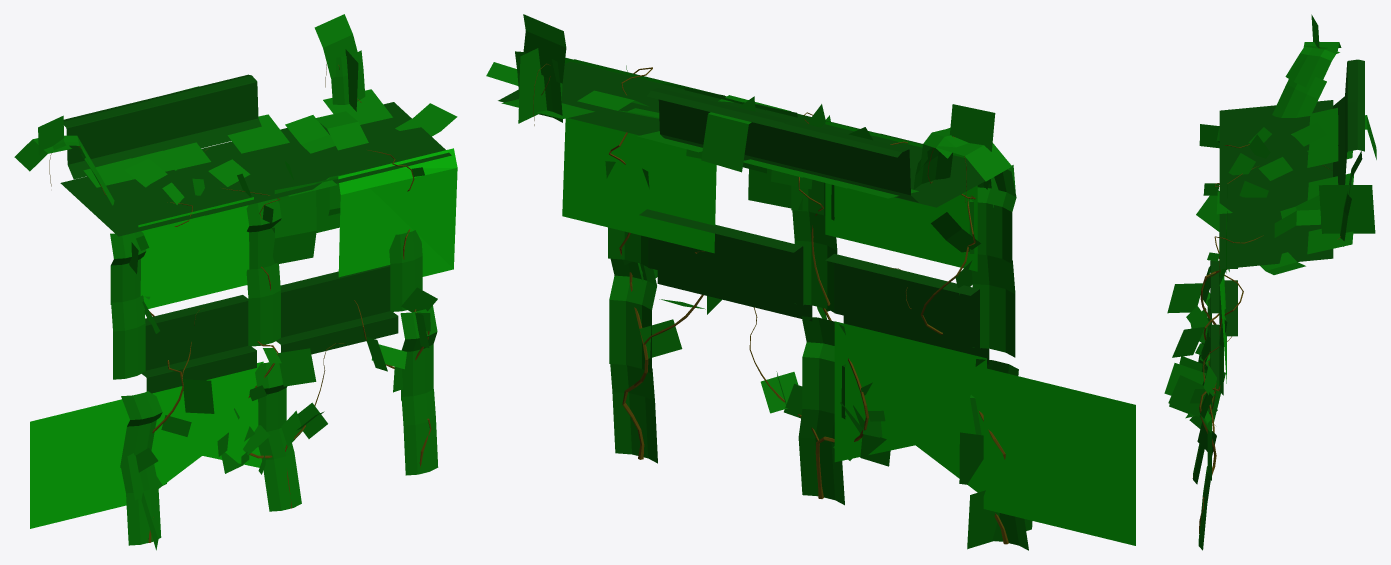
Rendered from Dom_znati_pluw.fbx.
The picture shows the model from 3 angles, left to right: view 1: azimuth 30°, elevation 25°; view 2: azimuth 150°, elevation 25°; view 3: azimuth 270°, elevation 25°; orthographic projection. The views are drawn at different scales.
Visible parts, largest first — view 1: Dom_znati_pluw; view 2: Dom_znati_pluw; view 3: Dom_znati_pluw.
Part boxes in pixels (box(x1,y1,x2,y2)): Dom_znati_pluw: box(14, 14, 457, 550); Dom_znati_pluw: box(486, 14, 1135, 550); Dom_znati_pluw: box(1164, 14, 1376, 550).
Bounding box in the file's own units: 77.06 × 64.19 × 31.79.
